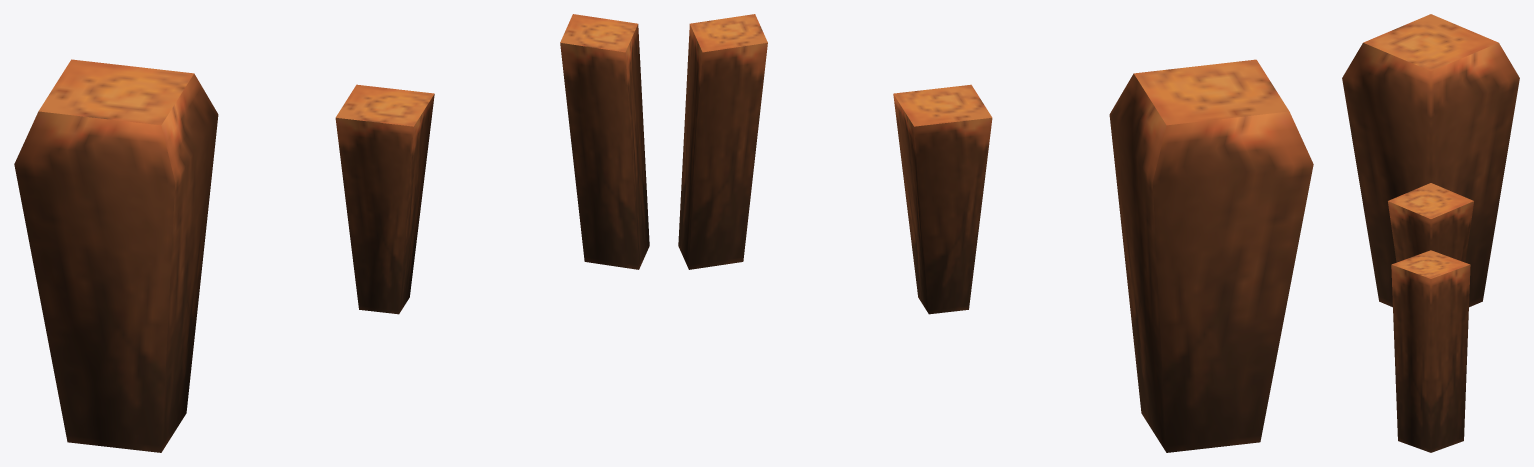
Rendered from wujian01.FBX.
The picture shows the model from 3 angles, left to right: view 1: azimuth 30°, elevation 25°; view 2: azimuth 150°, elevation 25°; view 3: azimuth 270°, elevation 25°; orthographic projection. The views are drawn at different scales.
Parts seen in each view (by area): view 1: wujian01; view 2: wujian01; view 3: wujian01.
Part boxes in pixels (x1,y1,x2,y2): wujian01: (14, 14, 649, 452); wujian01: (678, 14, 1313, 452); wujian01: (1342, 14, 1519, 452).
Bounding box in the file's own units: 45.25 × 14.54 × 23.
